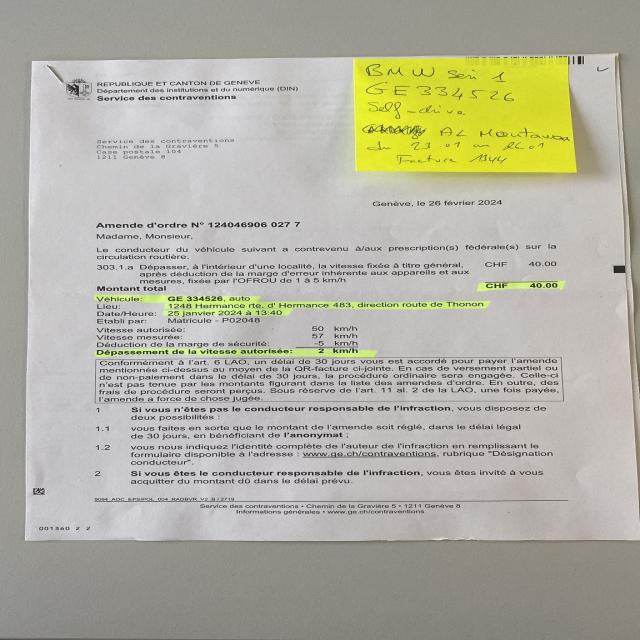paper-document-: (22, 54, 640, 540)
